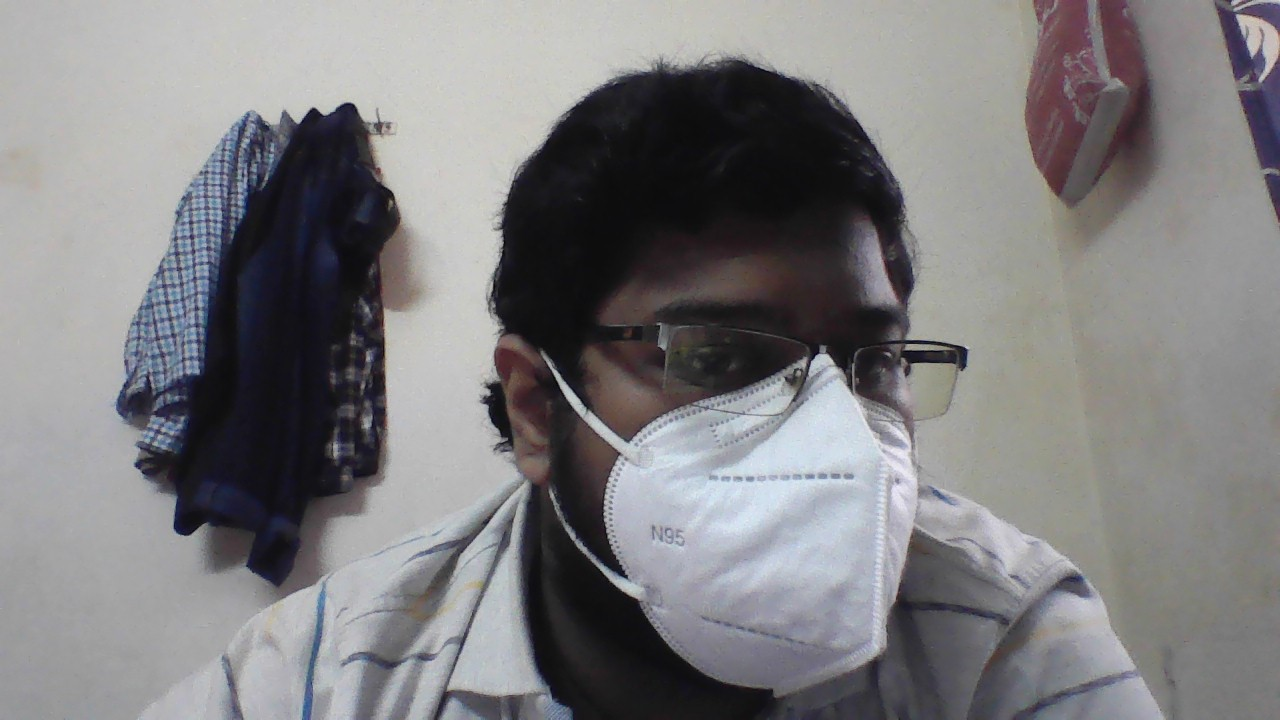Mask: (639, 386, 962, 665)
